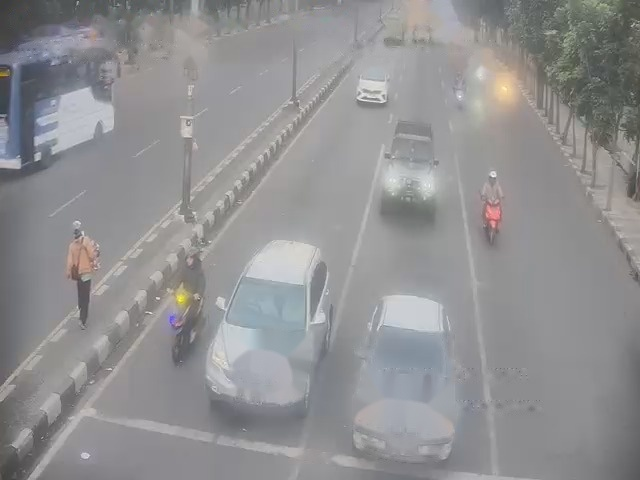Bis: (1, 26, 114, 146)
Mobil: (209, 229, 326, 411), (356, 289, 458, 464), (378, 128, 434, 215), (355, 63, 388, 108)
Motor: (173, 276, 196, 322), (483, 198, 504, 237)
